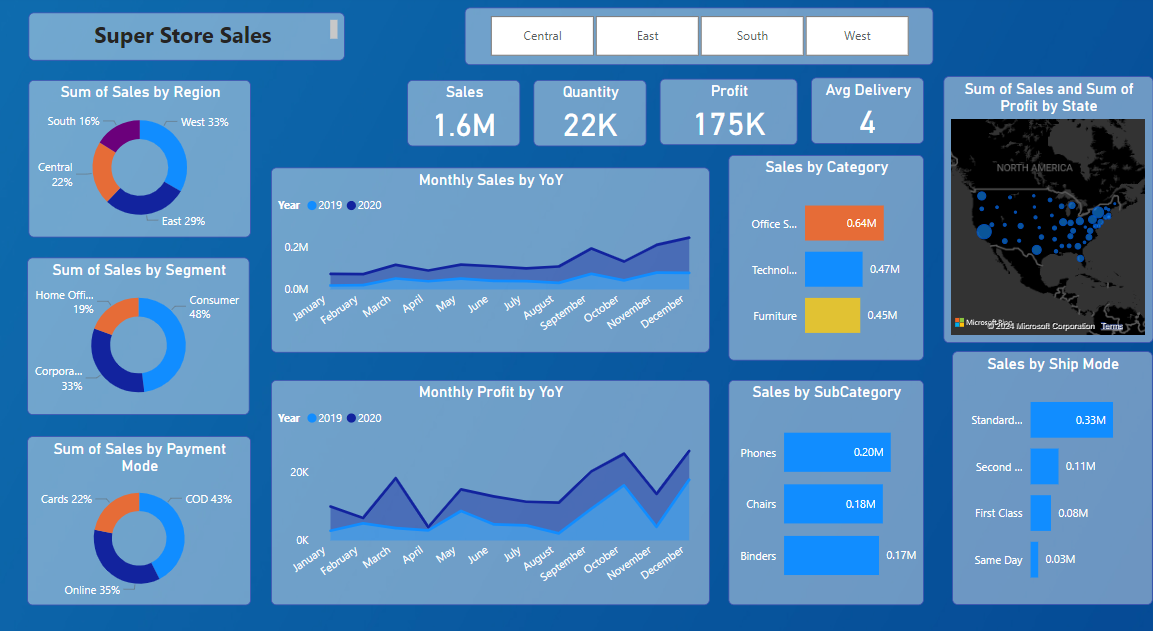

The page's visual inventory and layout, read from the dashboard file:
{"tool":"powerbi","page":{"name":"Page 1","canvas":[1280,720],"ordinal":0},"visuals":[{"type":"clusteredBarChart","title":"Sales by Category","fields":{"Category":["SuperStore_Sales_Dataset.Category"],"Y":["Sum(SuperStore_Sales_Dataset.Sales)"]},"box":[804.3,175.7,214.3,225.7],"z":0},{"type":"clusteredBarChart","title":"Sales by SubCategory","fields":{"Category":["SuperStore_Sales_Dataset.Sub-Category"],"Y":["Sum(SuperStore_Sales_Dataset.Sales)"]},"box":[804.3,422.9,214.3,247.1],"z":1000},{"type":"clusteredBarChart","title":"Sales by Ship Mode","fields":{"Category":["SuperStore_Sales_Dataset.Ship Mode"],"Y":["Sum(SuperStore_Sales_Dataset.Sales)"]},"box":[1050,391.4,220,278.6],"z":2000},{"type":"stackedAreaChart","title":"Monthly Sales by YoY","fields":{"Y":["Sum(SuperStore_Sales_Dataset.Sales)"],"Category":["SuperStore_Sales_Dataset.Order Date.Variation.Date Hierarchy.Month","SuperStore_Sales_Dataset.Order Date.Variation.Date Hierarchy.Day"],"Series":["SuperStore_Sales_Dataset.Order Date.Variation.Date Hierarchy.Year"]},"box":[301.4,190,481.4,202.9],"z":3000},{"type":"stackedAreaChart","title":"Monthly Profit by YoY","fields":{"Category":["SuperStore_Sales_Dataset.Order Date.Variation.Date Hierarchy.Month","SuperStore_Sales_Dataset.Order Date.Variation.Date Hierarchy.Day"],"Series":["SuperStore_Sales_Dataset.Order Date.Variation.Date Hierarchy.Year"],"Y":["Sum(SuperStore_Sales_Dataset.Profit)"]},"box":[301.4,422.9,481.4,247.1],"z":4000},{"type":"map","fields":{"Category":["SuperStore_Sales_Dataset.State"],"Size":["Sum(SuperStore_Sales_Dataset.Sales)"]},"box":[1040,88.6,230,292.9],"z":5000},{"type":"donutChart","fields":{"Category":["SuperStore_Sales_Dataset.Segment"],"Y":["Sum(SuperStore_Sales_Dataset.Sales)"]},"box":[34.3,288.6,244.3,172.9],"z":6000},{"type":"donutChart","fields":{"Category":["SuperStore_Sales_Dataset.Payment Mode"],"Y":["Sum(SuperStore_Sales_Dataset.Sales)"]},"box":[34.3,484.3,245.7,185.7],"z":7000},{"type":"slicer","fields":{"Values":["SuperStore_Sales_Dataset.Region"]},"box":[514.3,14.3,514.3,62.9],"z":8000},{"type":"textbox","box":[35.7,18.6,347.1,52.9],"z":9000},{"type":"card","title":"Sales","fields":{"Values":["Sum(SuperStore_Sales_Dataset.Sales)"]},"box":[451.4,92.9,124.3,72.9],"z":10000},{"type":"card","title":"Quantity","fields":{"Values":["Sum(SuperStore_Sales_Dataset.Quantity)"]},"box":[590,92.9,124.3,72.9],"z":11000},{"type":"card","title":"Profit","fields":{"Values":["Sum(SuperStore_Sales_Dataset.Profit)"]},"box":[728.6,91.4,151.4,72.9],"z":12000},{"type":"card","title":"Avg Delivery","fields":{"Values":["Avg(SuperStore_Sales_Dataset.Avg Delivery)"]},"box":[894.3,90,124.3,72.9],"z":13000},{"type":"donutChart","fields":{"Category":["SuperStore_Sales_Dataset.Region"],"Y":["Sum(SuperStore_Sales_Dataset.Sales)"]},"box":[35.7,92.9,244.3,172.9],"z":13001}]}

Visuals, with their boxes in screenshot pixels (x1, y1, x2, y2), scaled from the page's 1280x720 canvas onto the 1153x631 screenshot:
"Sales by Category" clusteredBarChart: 724/154/918/352
"Sales by SubCategory" clusteredBarChart: 724/371/918/587
"Sales by Ship Mode" clusteredBarChart: 946/343/1144/587
"Monthly Sales by YoY" stackedAreaChart: 271/167/705/344
"Monthly Profit by YoY" stackedAreaChart: 271/371/705/587
map - SuperStore_Sales_Dataset.State x Sum(SuperStore_Sales_Dataset.Sales): 937/78/1144/334
donutChart - SuperStore_Sales_Dataset.Segment x Sum(SuperStore_Sales_Dataset.Sales): 31/253/251/404
donutChart - SuperStore_Sales_Dataset.Payment Mode x Sum(SuperStore_Sales_Dataset.Sales): 31/424/252/587
slicer - SuperStore_Sales_Dataset.Region: 463/13/927/68
textbox: 32/16/345/63
"Sales" card: 407/81/519/145
"Quantity" card: 531/81/643/145
"Profit" card: 656/80/793/144
"Avg Delivery" card: 806/79/918/143
donutChart - SuperStore_Sales_Dataset.Region x Sum(SuperStore_Sales_Dataset.Sales): 32/81/252/233
